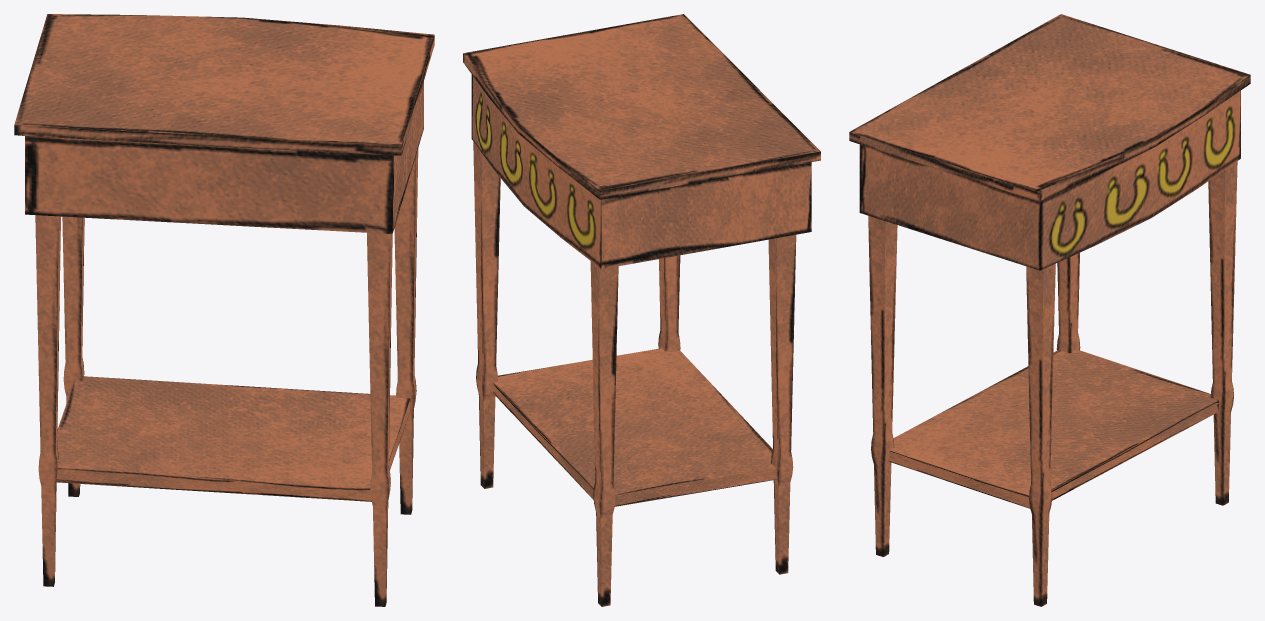
Rendered from furniture_hallway_table.glb.
3 views of the same model, side by side, from view 1: azimuth 30°, elevation 25°; view 2: azimuth 150°, elevation 25°; view 3: azimuth 270°, elevation 25° (orthographic). The views are drawn at different scales.
Parts seen in each view (by area): view 1: Table_hallway; view 2: Table_hallway; view 3: Table_hallway.
Boxes of the visible parts, x1,y1,x2,y2 form: Table_hallway: [14, 14, 434, 606]; Table_hallway: [463, 14, 820, 606]; Table_hallway: [849, 14, 1250, 606].
Size of the model in its own units: 0.0547 by 0.0604 by 0.0519.
Materials: 1 (1 with a texture image).
